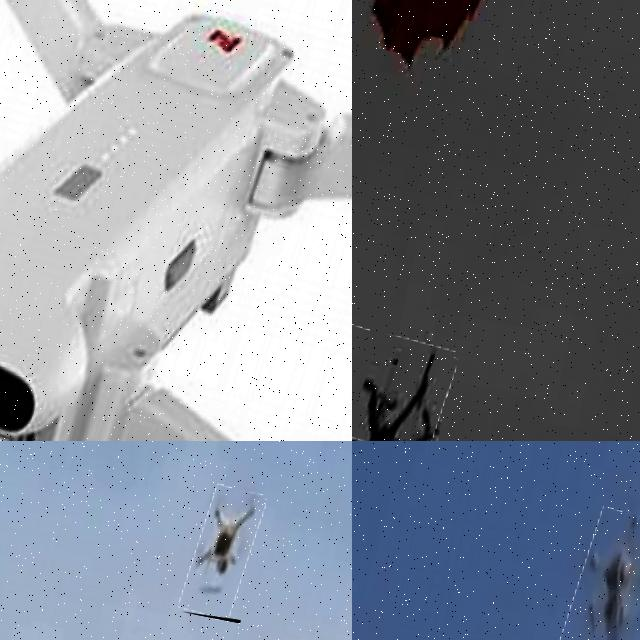drone: (0, 0, 352, 441), (352, 324, 456, 441), (181, 484, 265, 624), (557, 506, 640, 640)
